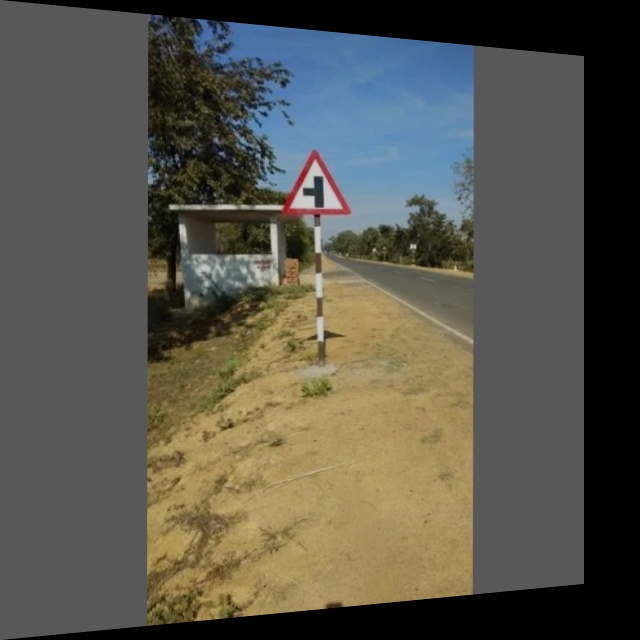Side_Road_Left: (279, 143, 353, 221)
